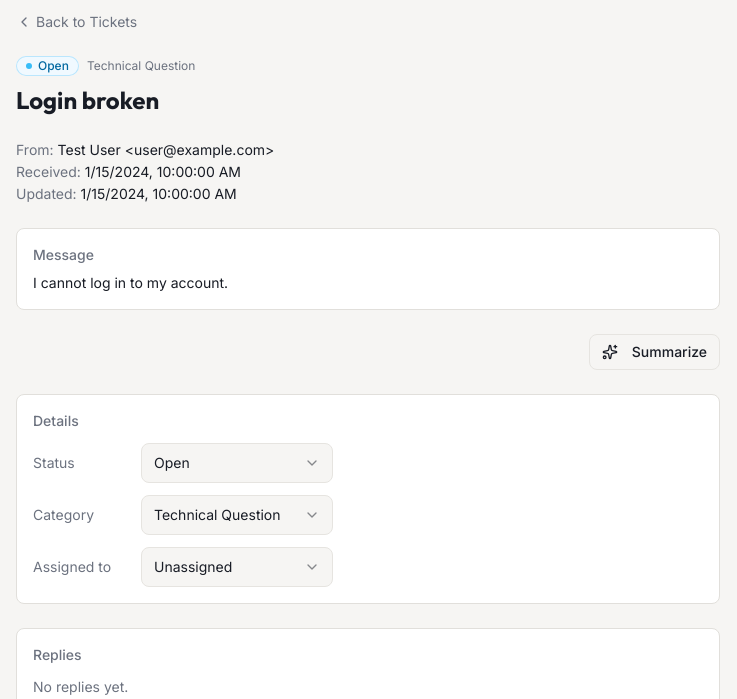
TicketDetailPage — assignment › shows the Save button after selecting a different agent
Expected: the heading "Login broken" is shown, [16, 85, 159, 115]
Click the dropdown labelled "Unassigned" at (237, 567), box [141, 547, 333, 587]
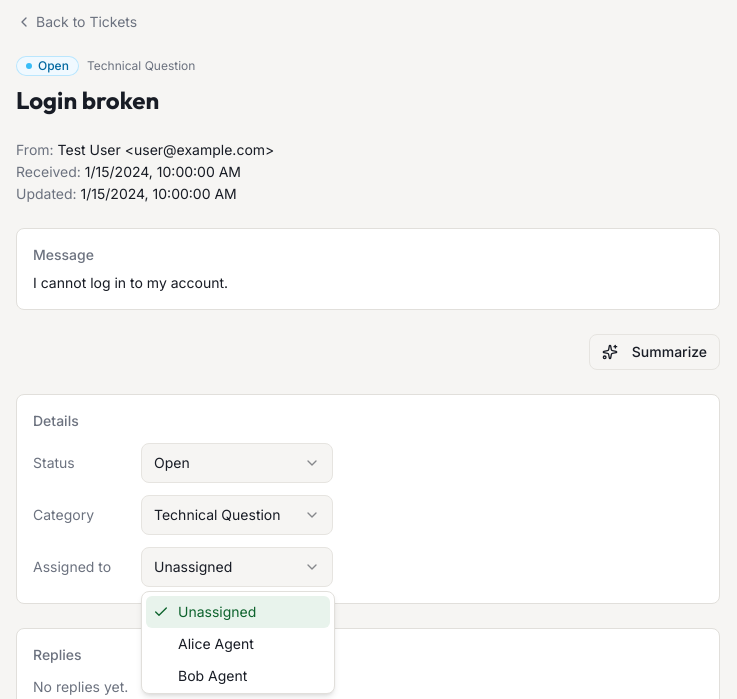
Click the option "Alice Agent" at (216, 644), box [178, 635, 254, 652]
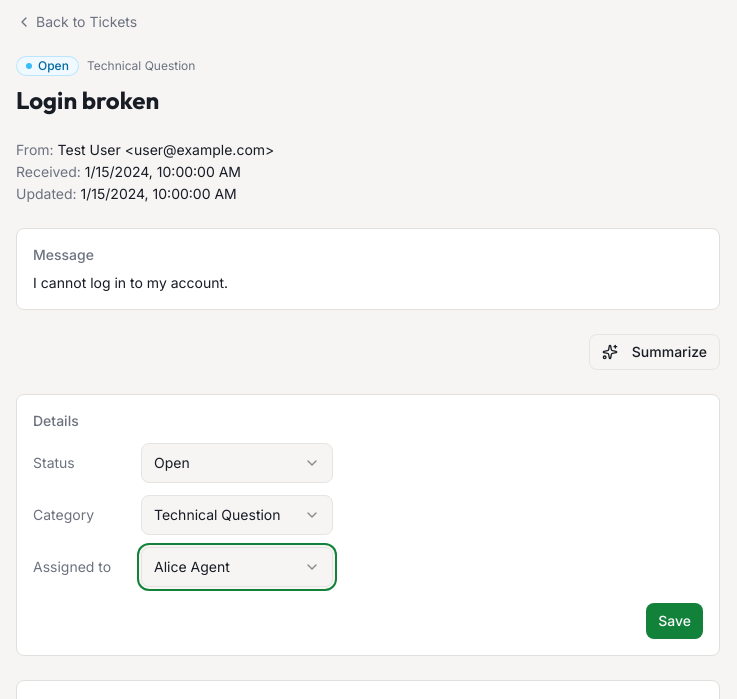
Expected: the button "Save" is shown, [646, 603, 703, 639]
